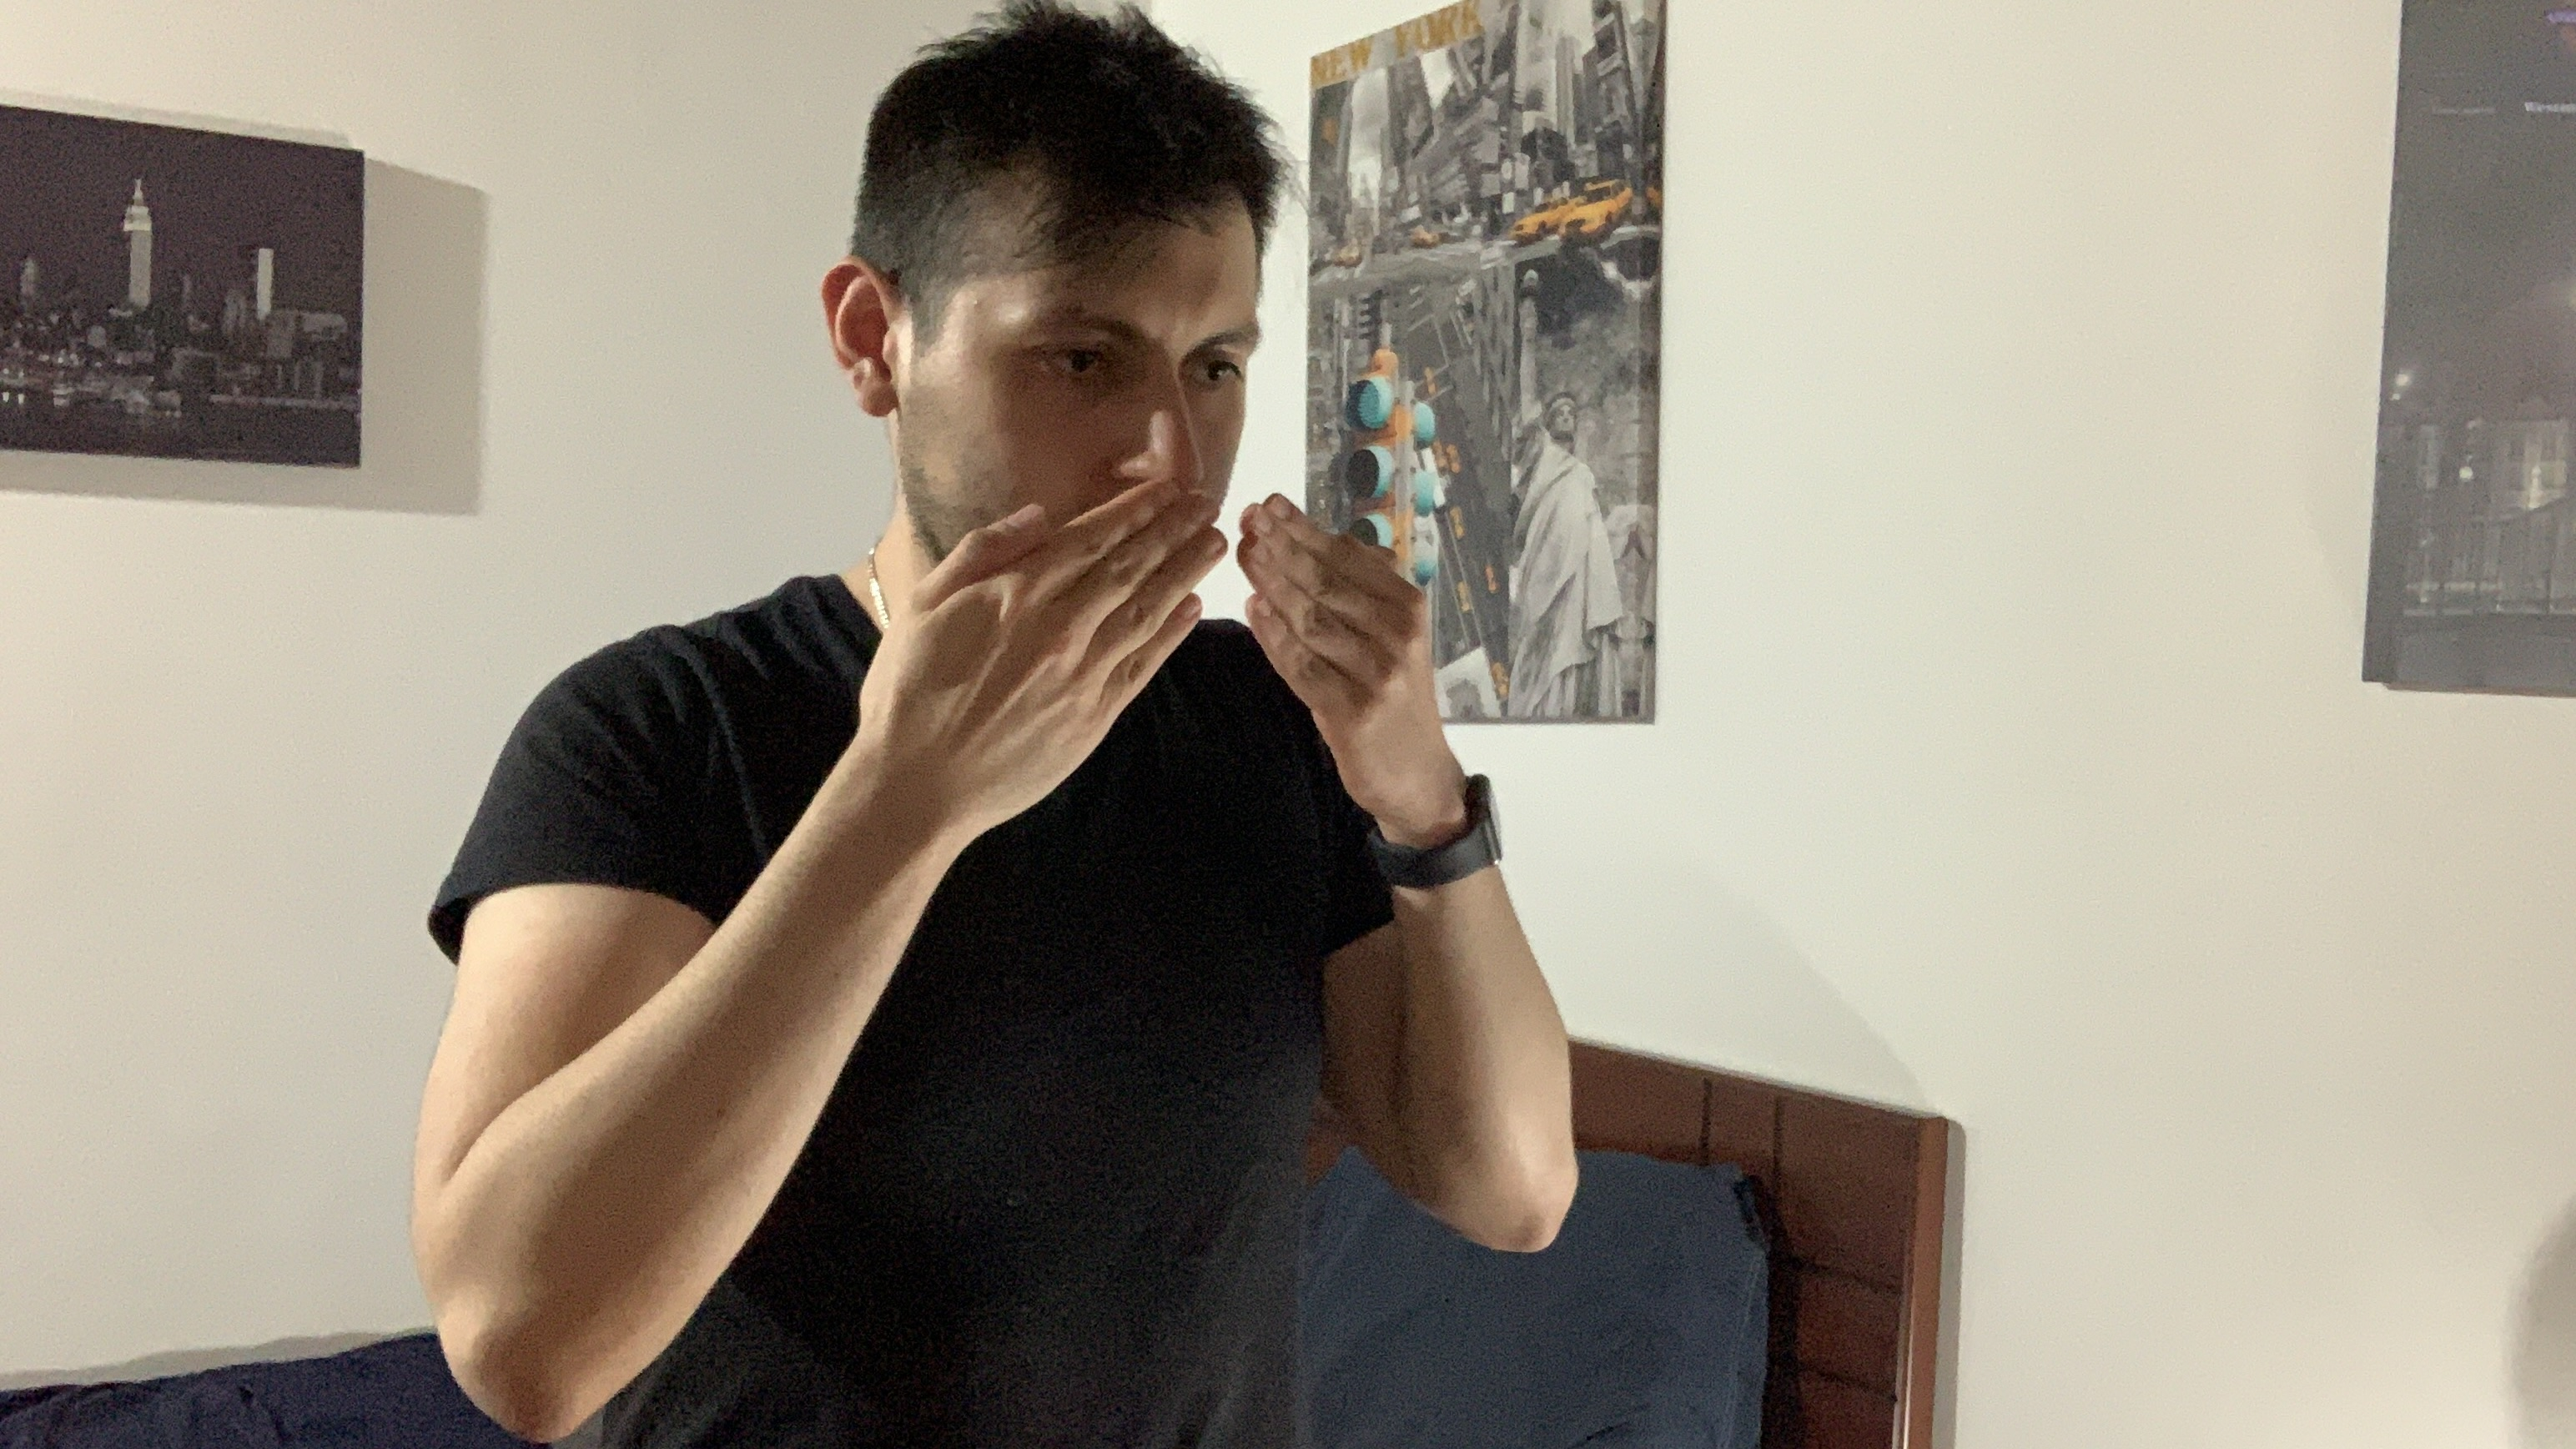Thank You: (851, 472, 1463, 844)
